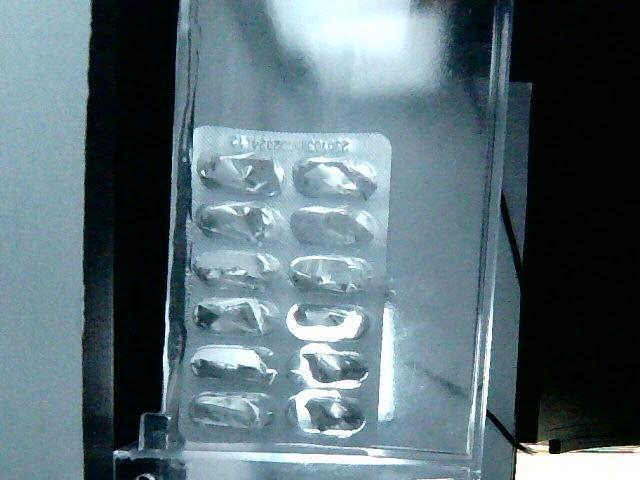Light Front: (178, 126, 393, 453)
No Pill Front: (284, 394, 370, 442), (289, 152, 375, 197), (197, 201, 281, 247), (287, 204, 379, 245), (293, 348, 380, 389), (189, 297, 280, 336), (186, 392, 271, 432), (199, 154, 282, 194), (286, 305, 372, 343), (196, 253, 283, 290), (190, 348, 275, 383), (291, 252, 371, 289)
